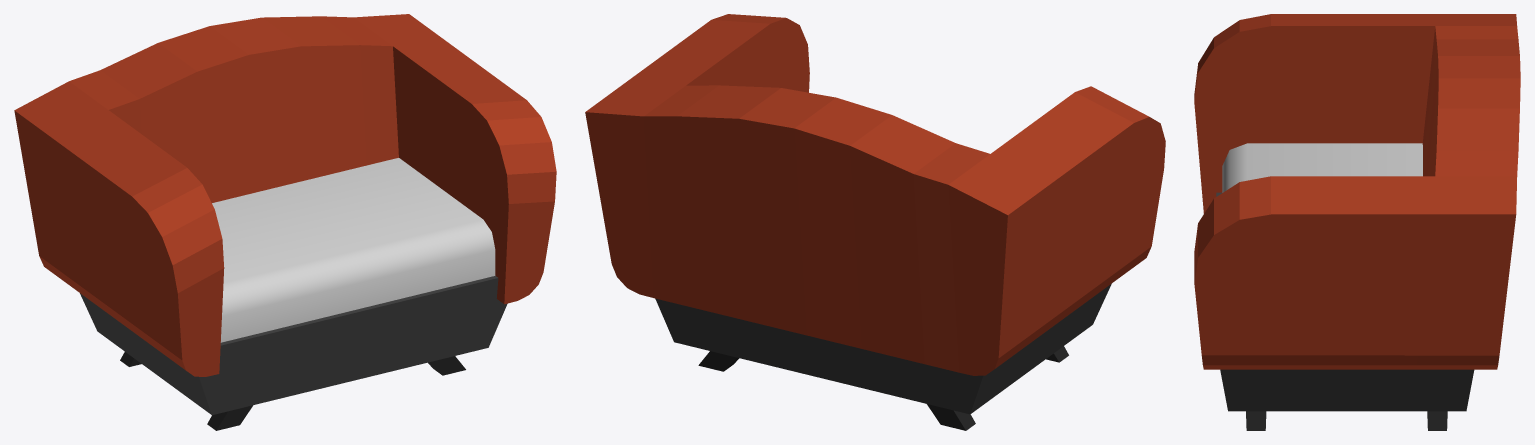
Rendered from Sofa_3.fbx.
3 views of the same model, side by side, from view 1: azimuth 30°, elevation 25°; view 2: azimuth 150°, elevation 25°; view 3: azimuth 270°, elevation 25° (orthographic). The views are drawn at different scales.
Parts seen in each view (by area): view 1: Sofa_3; view 2: Sofa_3; view 3: Sofa_3.
Boxes of the visible parts, x1,y1,x2,y2 form: Sofa_3: [14, 14, 556, 430]; Sofa_3: [585, 14, 1165, 430]; Sofa_3: [1194, 14, 1520, 430].
Bounding box in the file's own units: 136 × 91.28 × 93.39.
